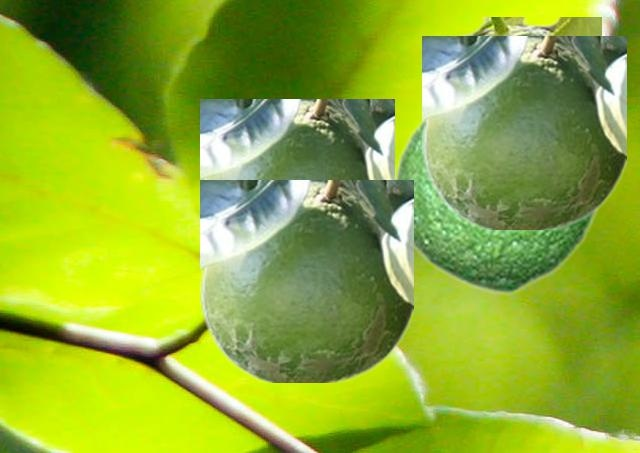dalandan: (200, 180, 412, 381), (422, 36, 625, 228), (391, 117, 598, 294), (200, 99, 393, 179), (453, 17, 600, 35)
